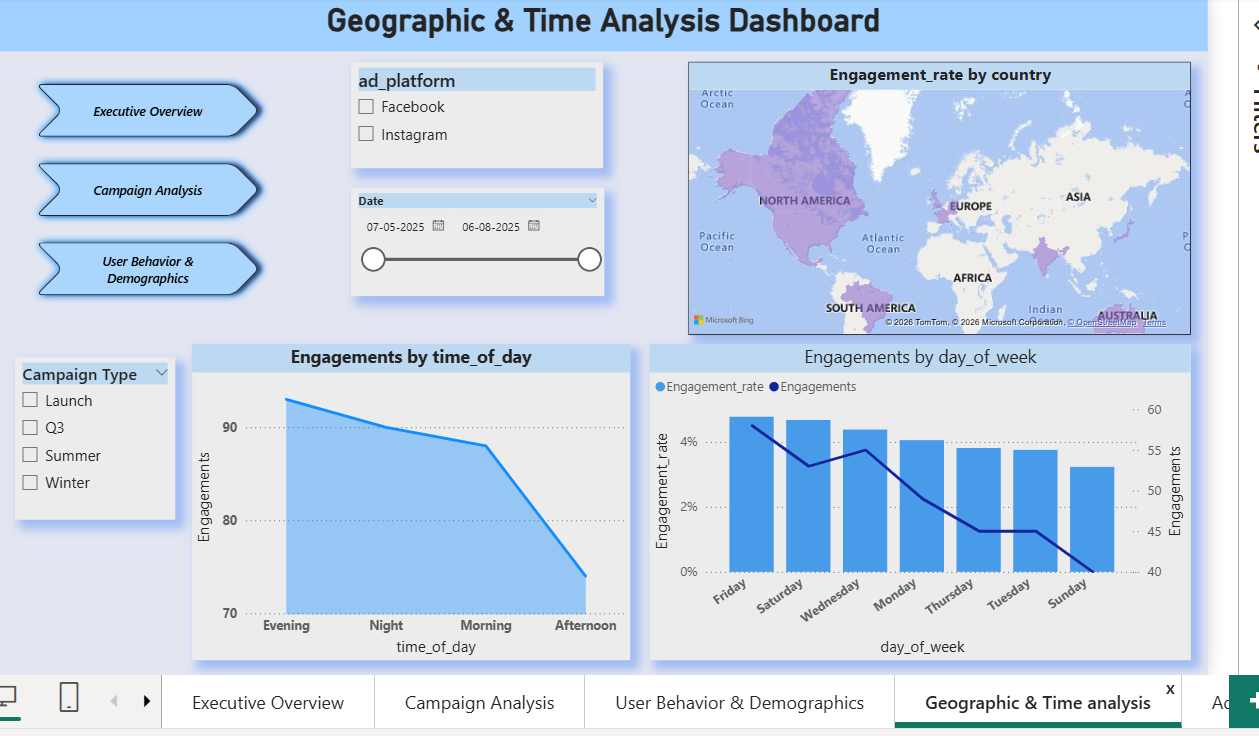

Layout of this report page (visuals, bound fields, positions):
{"tool":"powerbi","page":{"name":"Geographic & Time analysis","canvas":[1280,720],"ordinal":3},"visuals":[{"type":"filledMap","title":"Engagement_rate by country","fields":{"Category":["users.country"]},"box":[730.1,70,532.9,289.5],"z":0},{"type":"lineClusteredColumnComboChart","title":"Engagements by day_of_week","fields":{"Category":["ad_events.day_of_week"],"Y":["ad_events.Engagement_rate"],"Y2":["ad_events.Engagements"]},"box":[688.7,369,574.2,335.6],"z":1000},{"type":"stackedAreaChart","title":"Engagements by time_of_day","fields":{"Category":["ad_events.time_of_day"],"Y":["ad_events.Engagements"]},"box":[203.6,369,464.5,335.6],"z":2000},{"type":"slicer","fields":{"Values":["campaigns.Campaign Type"]},"box":[15.9,383.3,170.2,171.8],"z":3000},{"type":"slicer","fields":{"Values":["ads.ad_platform"]},"box":[372.2,70,267.2,112.9],"z":4000},{"type":"slicer","fields":{"Values":["Date.Date"]},"box":[372.2,203.6,268.8,114.5],"z":5000},{"type":"pageNavigator","box":[28.6,84.3,256.1,245],"z":6000},{"type":"textbox","box":[0,0,1280.4,58.9],"z":7000}]}

Visuals, with their boxes on the page's 1280x720 design canvas (x1, y1, x2, y2). These are canvas units, not pixel positions in the 1259x736 screenshot, which may show the page scaled, cropped or inside an application window:
"Engagement_rate by country" filledMap: (730,70,1263,360)
"Engagements by day_of_week" lineClusteredColumnComboChart: (689,369,1263,705)
"Engagements by time_of_day" stackedAreaChart: (204,369,668,705)
slicer - campaigns.Campaign Type: (16,383,186,555)
slicer - ads.ad_platform: (372,70,639,183)
slicer - Date.Date: (372,204,641,318)
pageNavigator: (29,84,285,329)
textbox: (0,0,1280,59)
